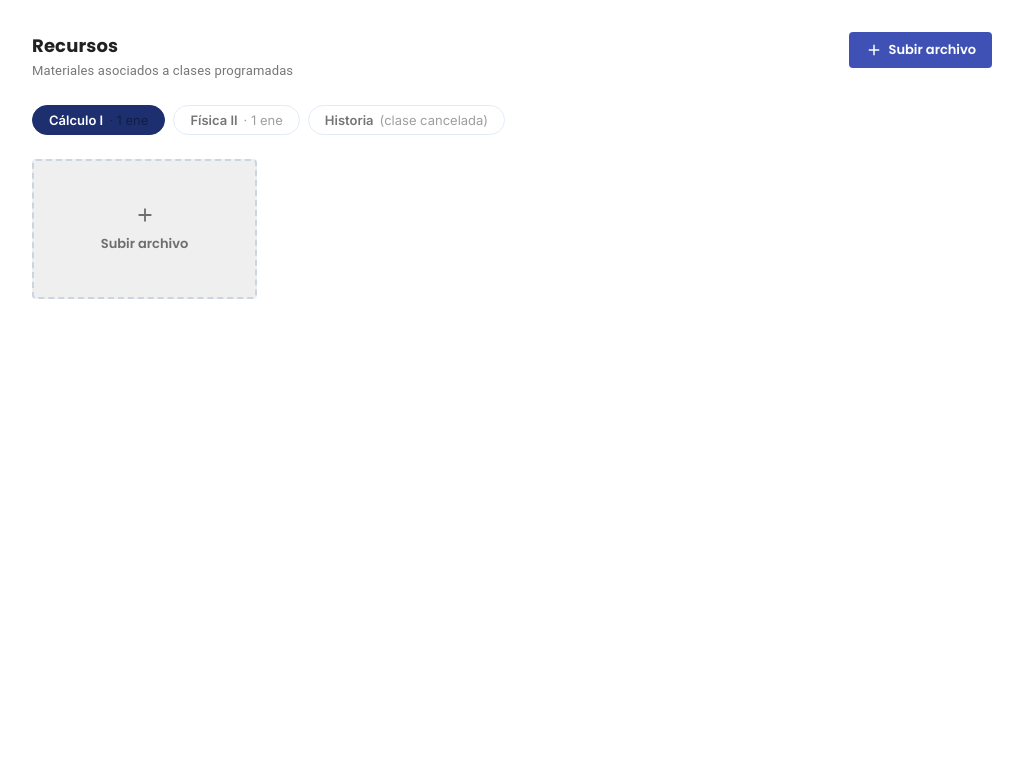
Scenario: the ResourcesTab component › surfaces a partial-failure message when some files fail to delete in bulk
Step 1. Click the button with test id "dashboard-resources-pill-class-gone" → (406, 120), box top-left (308, 104), bottom-right (505, 134)
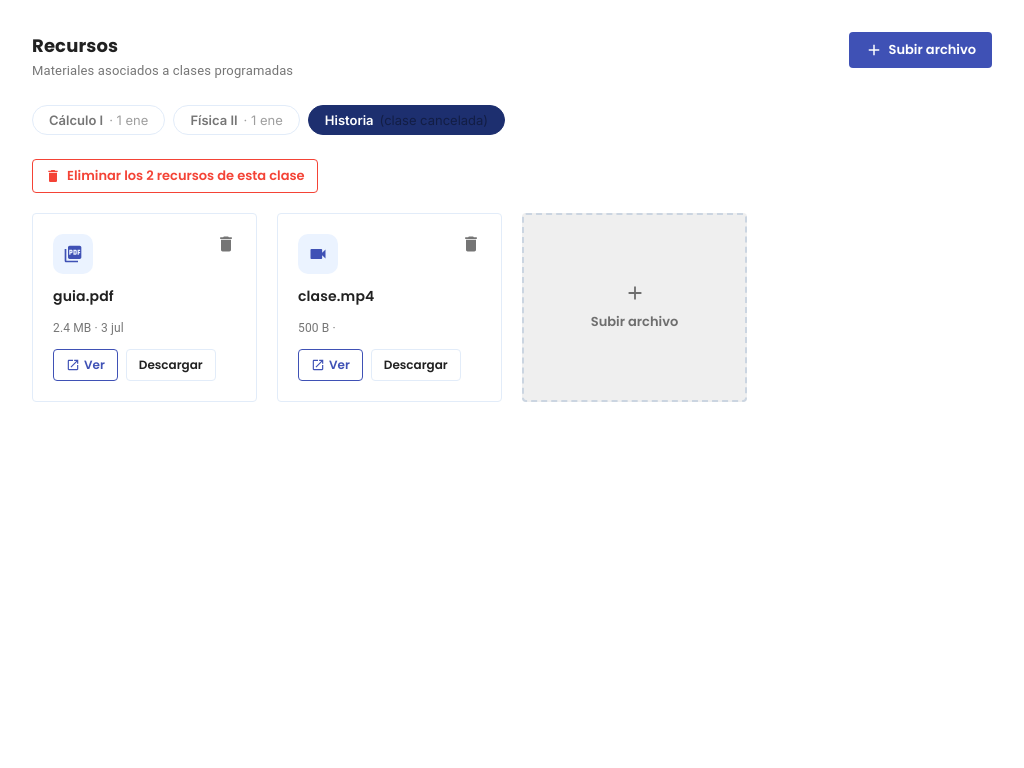
Step 2. Click the button with test id "dashboard-resources-bulk-delete-button" → (175, 176), box top-left (32, 158), bottom-right (318, 192)
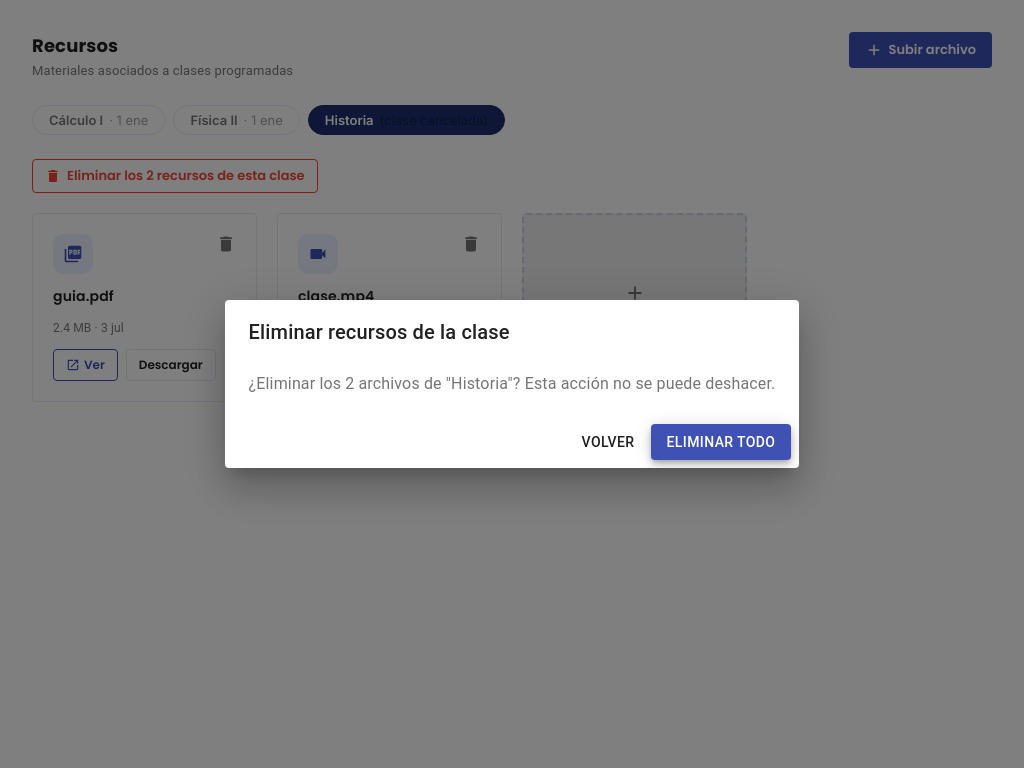
Step 3. Click the button with test id "dashboard-confirm-dialog-confirm" → (721, 442), box top-left (650, 424), bottom-right (791, 460)
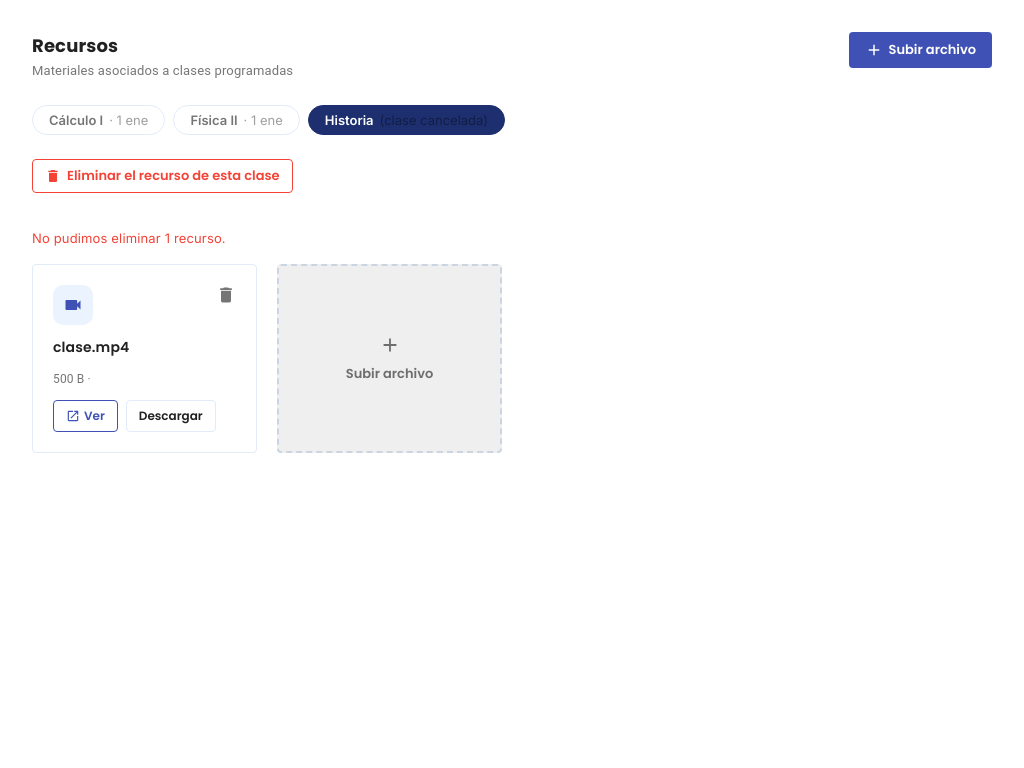
Now the element with test id "dashboard-resource-file-file-orphan-b" is shown, box top-left (32, 264), bottom-right (257, 453)
Now the element with test id "dashboard-resource-file-file-orphan-a" is gone
Now the text with test id "dashboard-resources-bulk-delete-error" reads "No pudimos eliminar 1 recurso.", box top-left (32, 230), bottom-right (226, 246)
